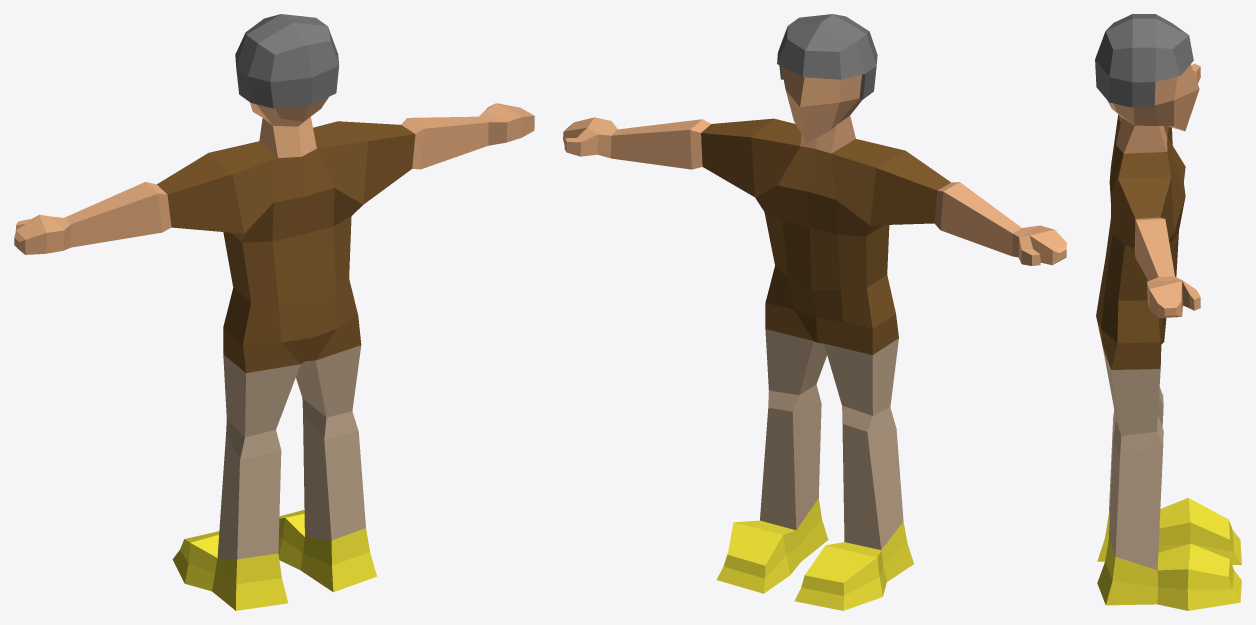
Rendered from NPCS5.fbx.
3 renders of one model, left to right at view 1: azimuth 30°, elevation 25°; view 2: azimuth 150°, elevation 25°; view 3: azimuth 270°, elevation 25°, orthographic. The views are drawn at different scales.
Parts seen in each view (by area): view 1: NPC.005; view 2: NPC.005; view 3: NPC.005.
Part boxes in pixels (x1,y1,x2,y2): NPC.005: (14,14,534,610); NPC.005: (563,14,1066,610); NPC.005: (1095,14,1241,610).
Size of the model in its own units: 3.76 by 0.9411 by 3.92.
